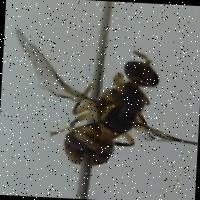Oriental-fruit-fly: (6, 12, 200, 182)
